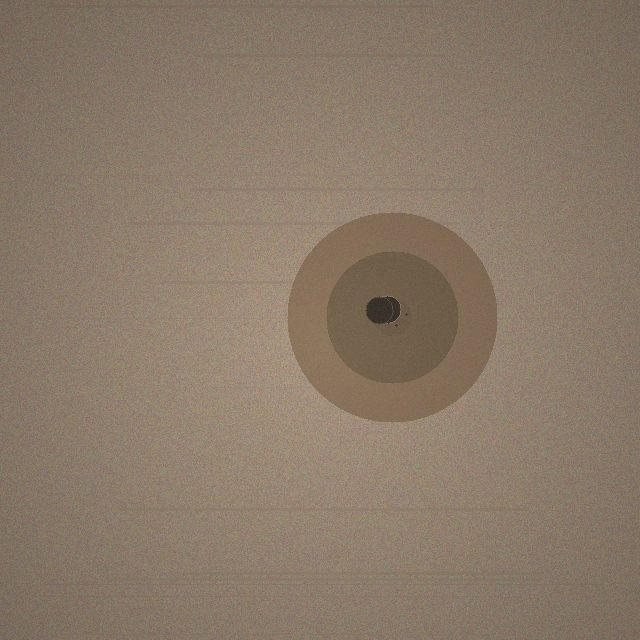shrinkage: (287, 212, 497, 422)
